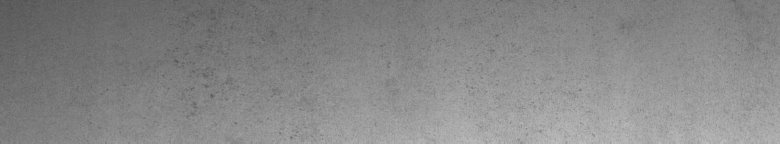ib: (174, 24, 236, 115)
